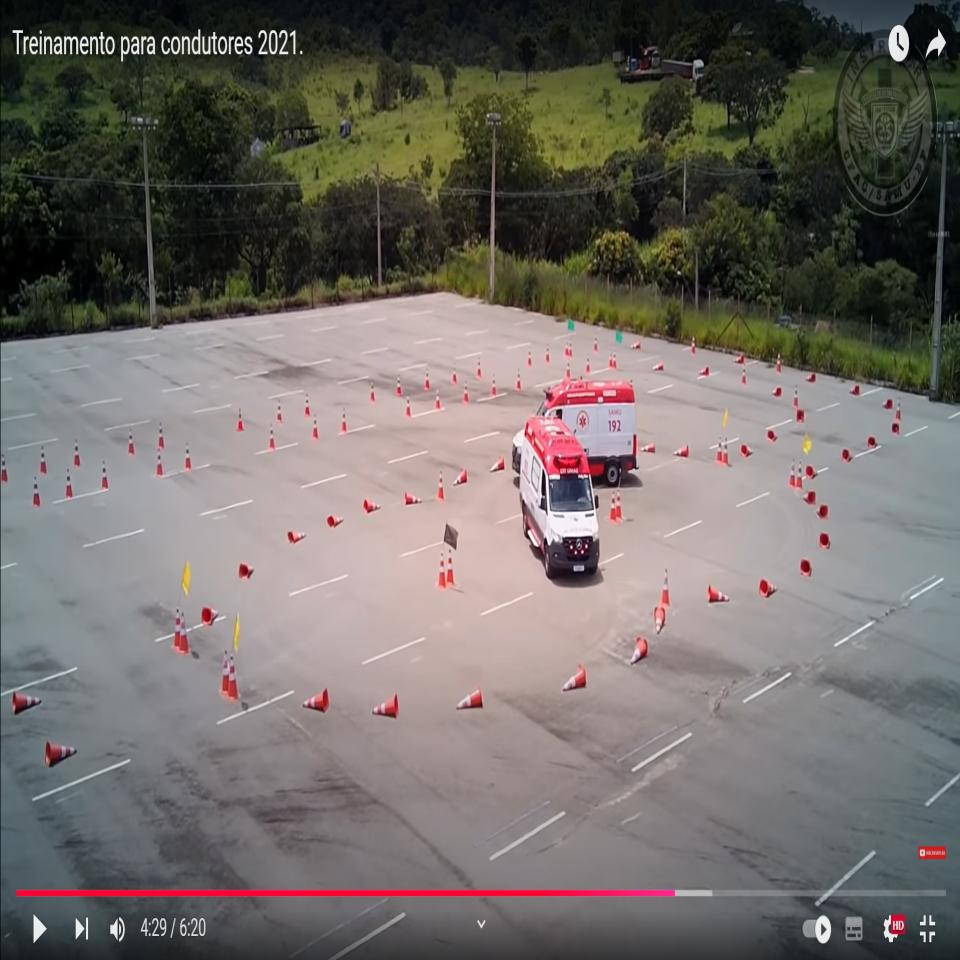bombeiro: (511, 371, 641, 489), (518, 415, 600, 580)
